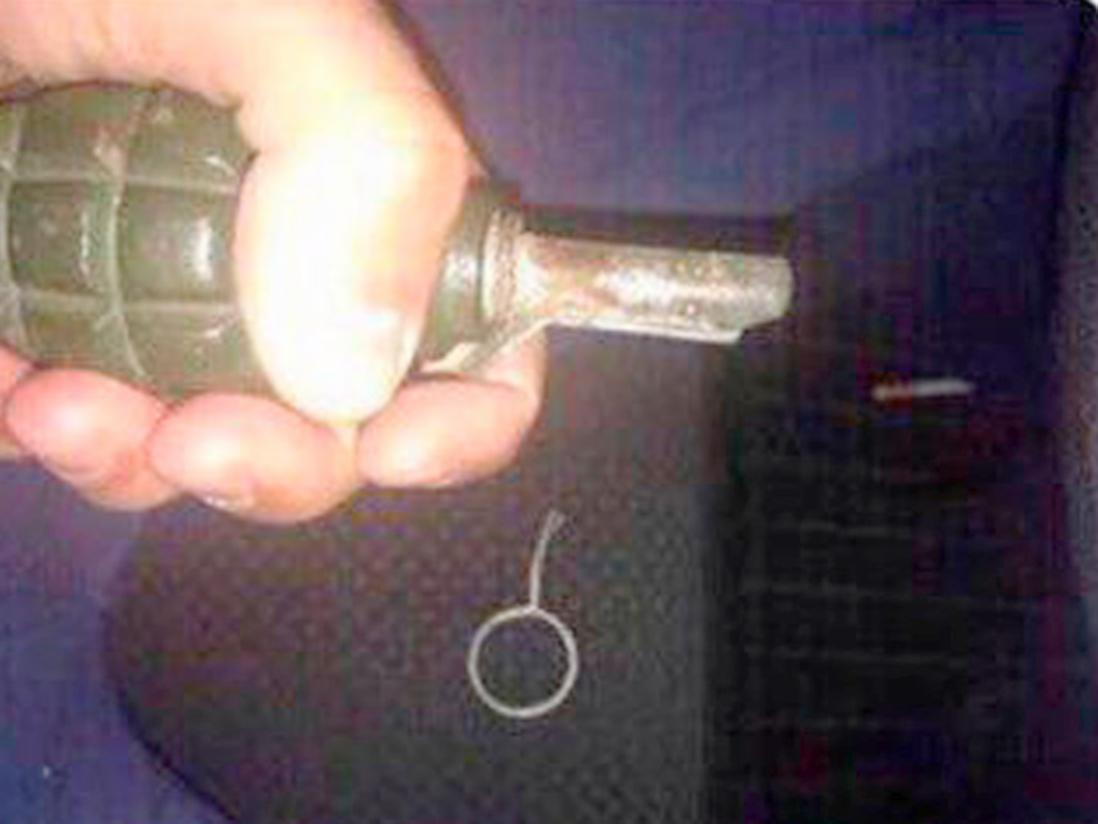Grenade: (1, 76, 792, 405)
